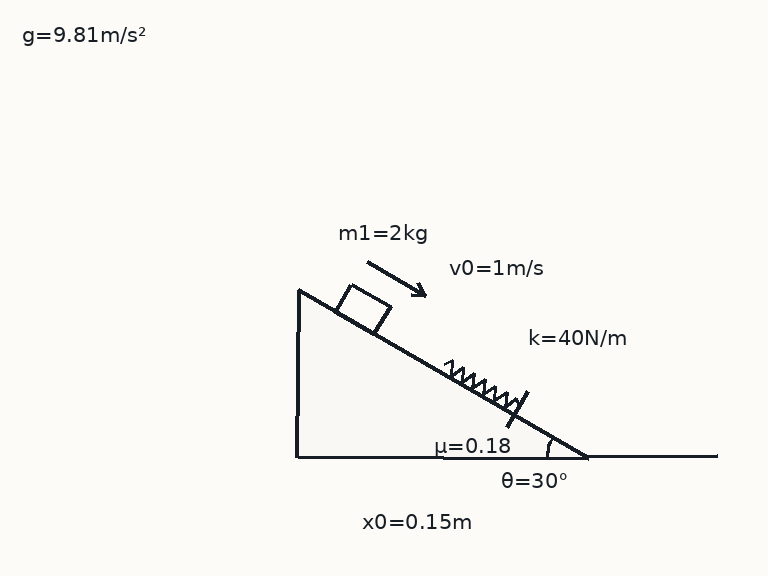block: (333, 282, 391, 336)
ramp: (295, 287, 589, 459)
spring: (442, 359, 521, 409)
